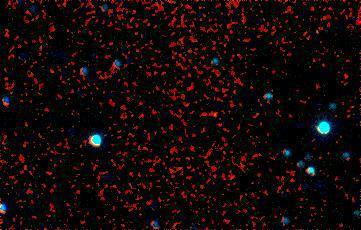star: (201, 101, 231, 131)
